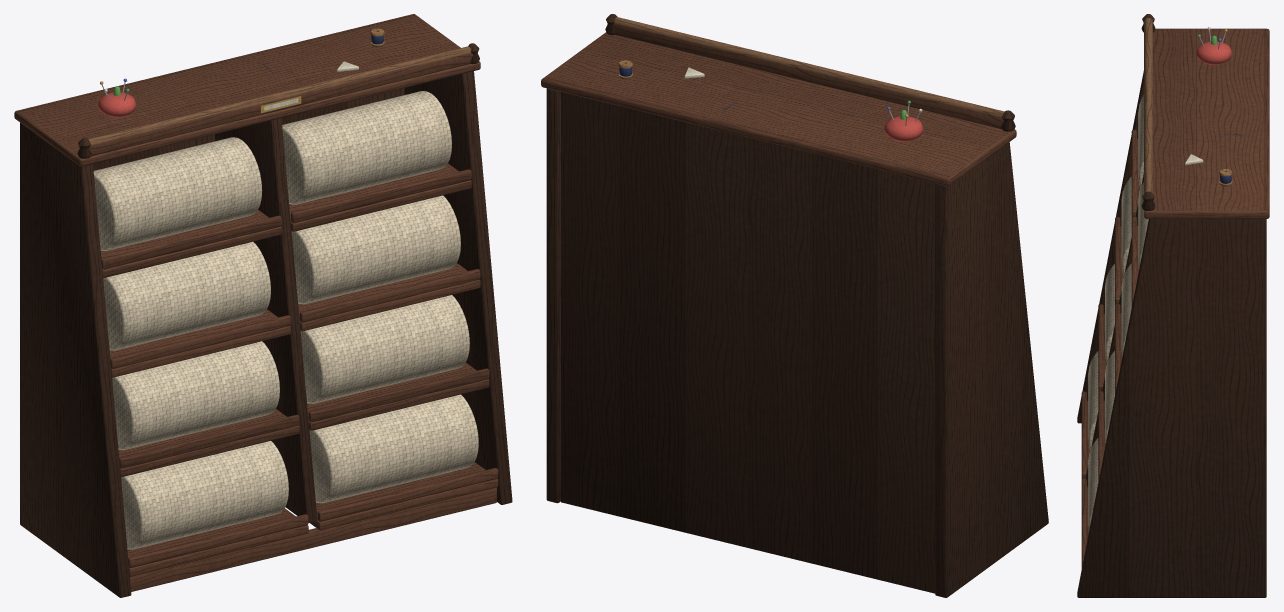
Rendered from shelf_v1.glb.
3 views of the same model, side by side, from view 1: azimuth 30°, elevation 25°; view 2: azimuth 150°, elevation 25°; view 3: azimuth 270°, elevation 25° (orthographic). The views are drawn at different scales.
Parts seen in each view (by area): view 1: Base, roll2, roll1, roll8, roll4, roll6, roll5, roll3, roll7; view 2: Base; view 3: Base, roll3, roll7, roll5, roll4, roll8, roll6, roll2, roll1.
Part boxes in pixels (box(x1,y1,x2,y2)): Base: box(14, 14, 512, 597); roll2: box(282, 91, 451, 204); roll1: box(93, 137, 262, 250); roll8: box(309, 394, 478, 503); roll4: box(291, 195, 460, 304); roll6: box(300, 295, 469, 403); roll5: box(112, 341, 279, 450); roll3: box(103, 242, 270, 350); roll7: box(121, 441, 288, 549); Base: box(541, 14, 1048, 597); Base: box(1077, 14, 1269, 597); roll3: box(1121, 176, 1131, 275); roll7: box(1088, 351, 1098, 449); roll5: box(1105, 264, 1114, 362); roll4: box(1121, 263, 1131, 356); roll8: box(1088, 438, 1098, 530); roll6: box(1105, 351, 1114, 443); roll2: box(1138, 182, 1148, 269); roll1: box(1138, 95, 1143, 187).
Bounding box in the file's own units: 1.49 × 1.58 × 0.659.
14 materials, 14 textured.
